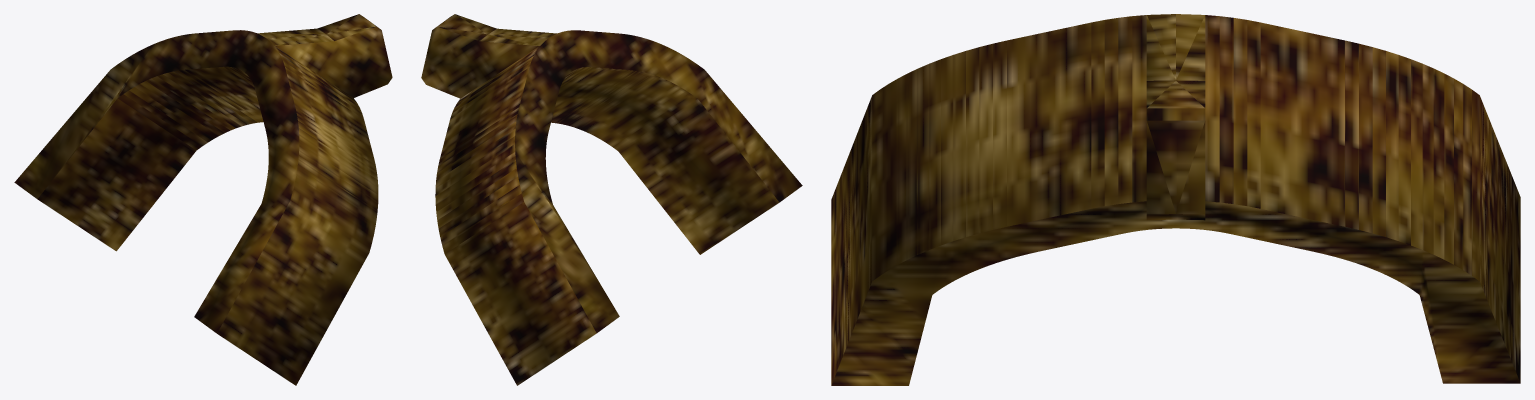
The model's file is strangeRock2Ver2.fbx.
3 views of the same model, side by side, from view 1: azimuth 30°, elevation 25°; view 2: azimuth 150°, elevation 25°; view 3: azimuth 270°, elevation 25° (orthographic). The views are drawn at different scales.
Parts seen in each view (by area): view 1: pasted__group_4; view 2: pasted__group_4; view 3: pasted__group_4.
Part boxes in pixels (x1,y1,x2,y2): pasted__group_4: (14, 14, 392, 385); pasted__group_4: (421, 14, 802, 385); pasted__group_4: (831, 14, 1520, 385).
Bounding box in the file's own units: 7.72 × 7 × 10.12.
Materials: 1 (1 with a texture image).
